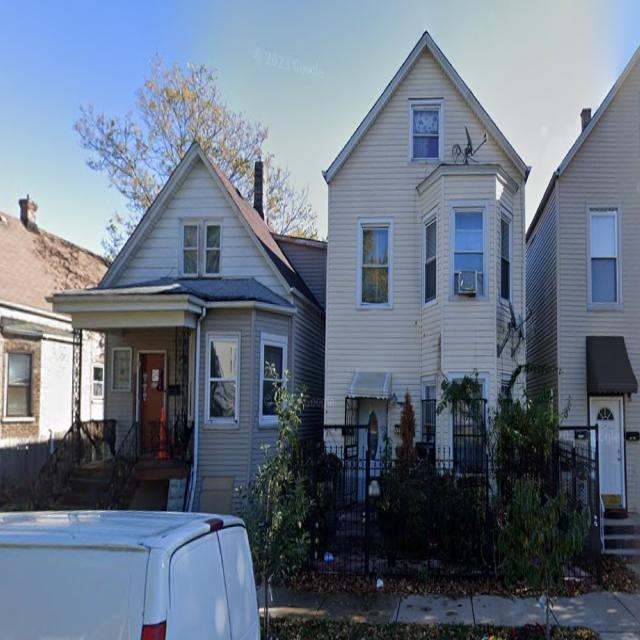House: (322, 25, 531, 556), (45, 135, 327, 525), (526, 41, 640, 565), (0, 195, 115, 507)
